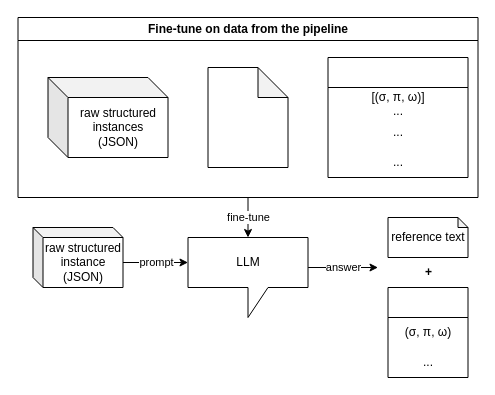
This 495x395 diagram has some shape labels left out. Each missing label, with the box of its shape:
reference texts: (207, 66, 288, 168)
Triples: (387, 286, 468, 378)
Triples for text: (327, 56, 468, 178)
